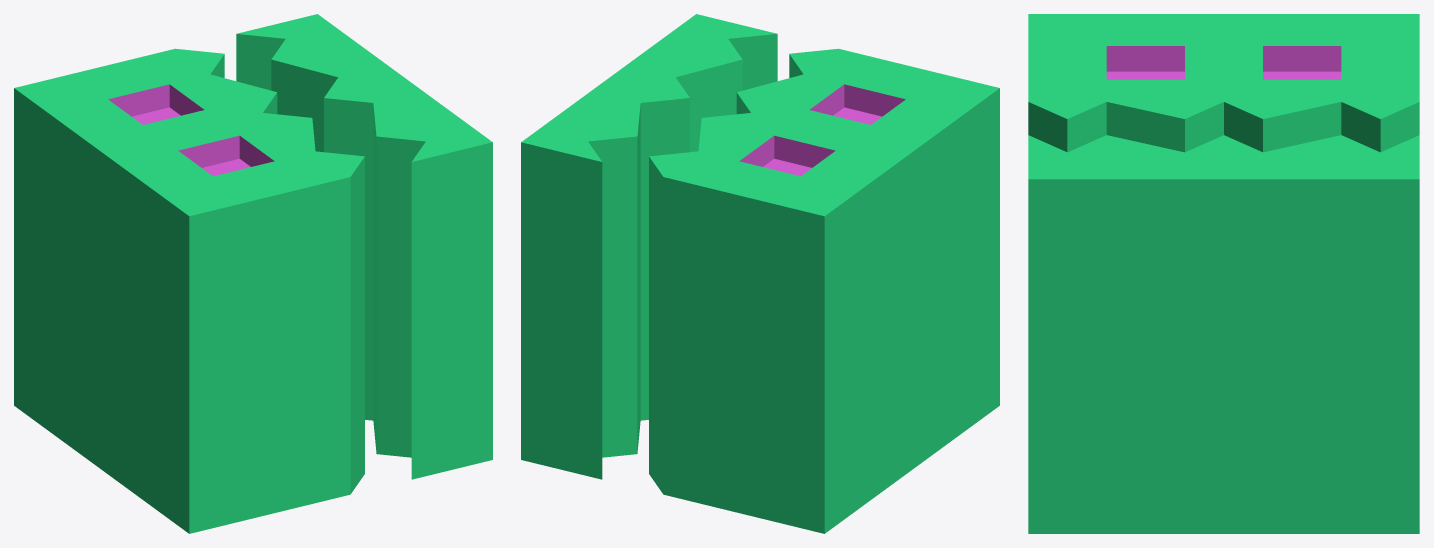
File: куб9.fbx
3 views of the same model, side by side, from view 1: azimuth 30°, elevation 25°; view 2: azimuth 150°, elevation 25°; view 3: azimuth 270°, elevation 25° (orthographic). The views are drawn at different scales.
Visible parts, largest first — view 1: Cube; view 2: Cube; view 3: Cube.
Boxes of the visible parts, <box> form: Cube: <box>14,14,492,533</box>; Cube: <box>521,14,999,533</box>; Cube: <box>1028,14,1419,533</box>.
Size of the model in its own units: 200 by 200 by 200.
